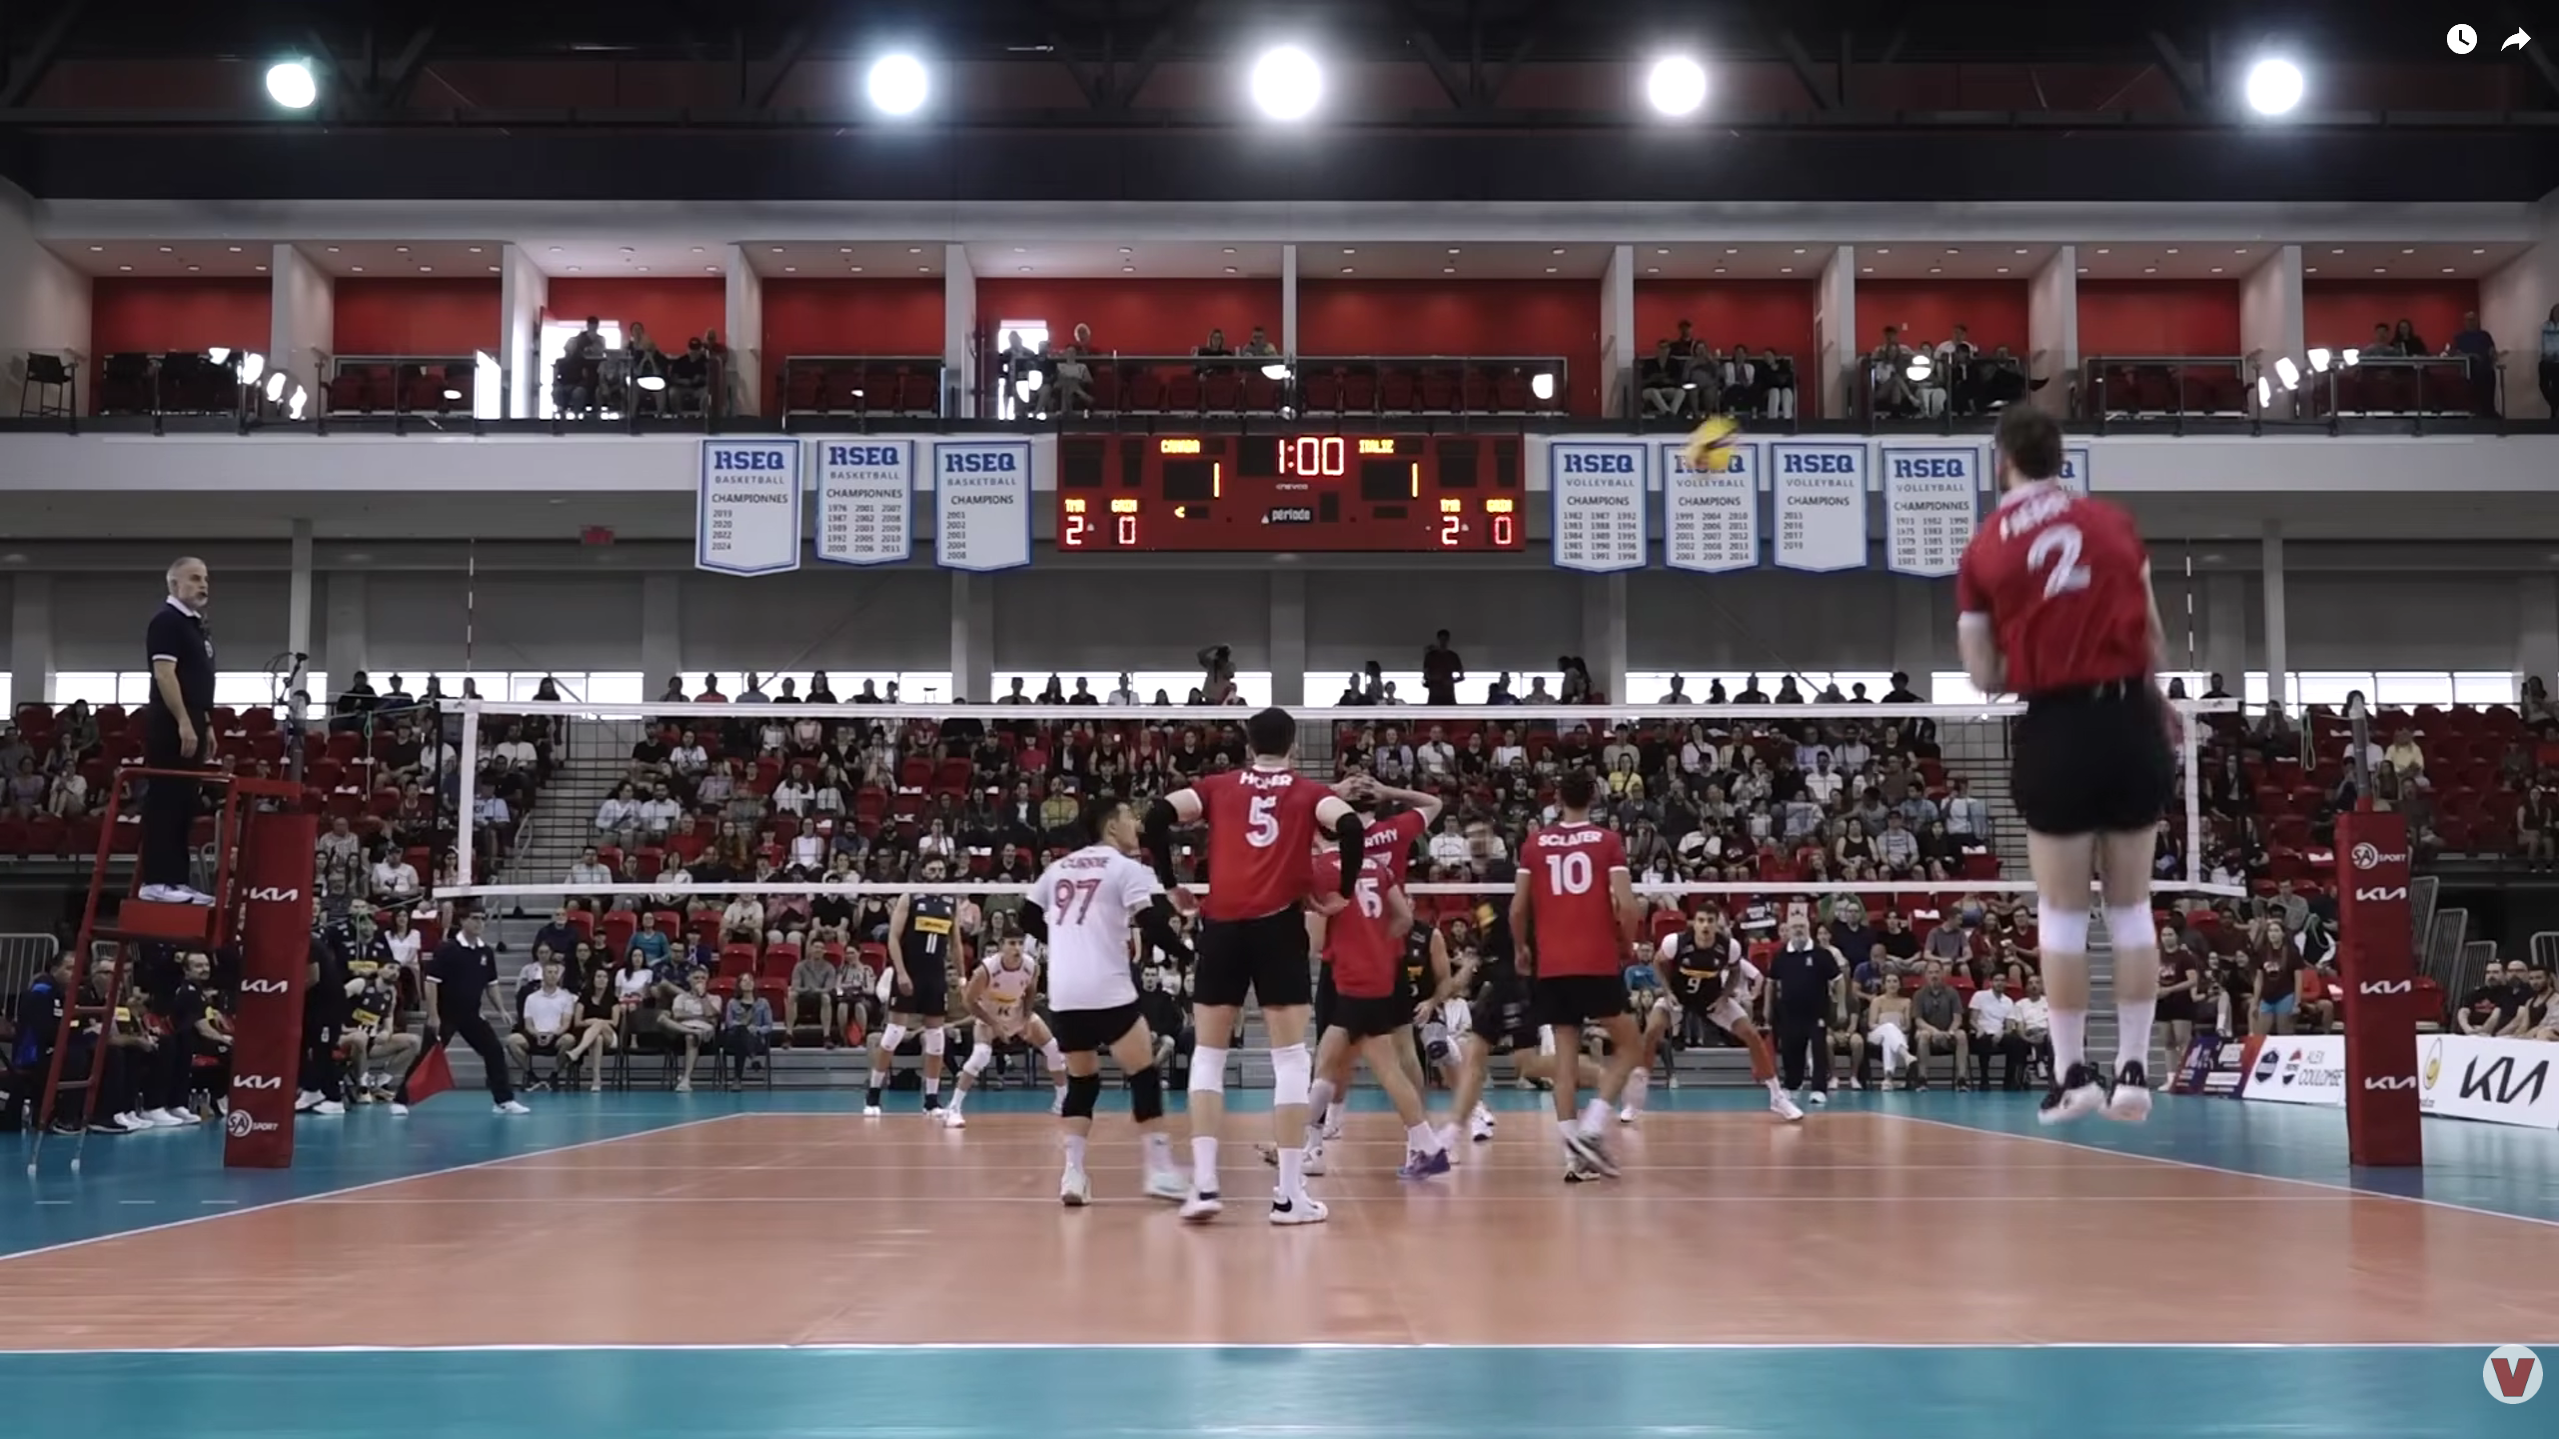Ball: (1680, 415, 1740, 473)
